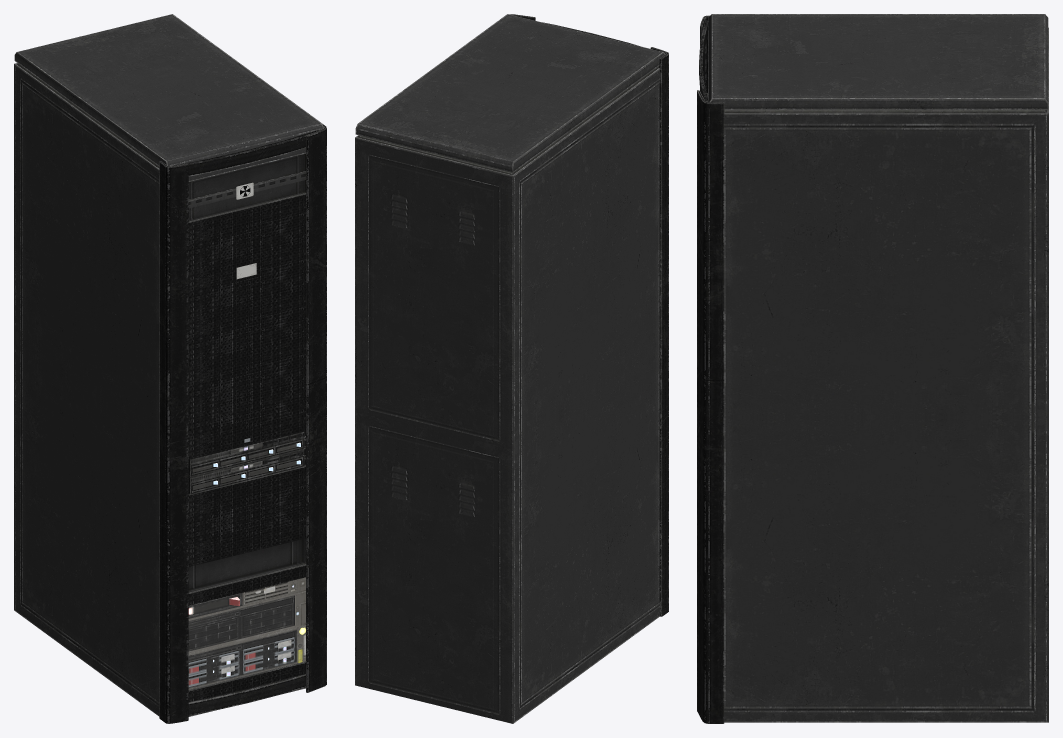
The picture shows the model from 3 angles, left to right: view 1: azimuth 30°, elevation 25°; view 2: azimuth 150°, elevation 25°; view 3: azimuth 270°, elevation 25°; orthographic projection. The views are drawn at different scales.
Visible parts, largest first — view 1: LODGroup_1_MainMesh_5_SubMesh_1.005; view 2: LODGroup_1_MainMesh_5_SubMesh_1.005; view 3: LODGroup_1_MainMesh_5_SubMesh_1.005.
Boxes of the visible parts, left/top/right/bottom form: LODGroup_1_MainMesh_5_SubMesh_1.005: left=14, top=14, right=326, bottom=723; LODGroup_1_MainMesh_5_SubMesh_1.005: left=355, top=14, right=668, bottom=723; LODGroup_1_MainMesh_5_SubMesh_1.005: left=697, top=14, right=1048, bottom=723.
Bounding box in the file's own units: 64.55 × 214 × 109.
